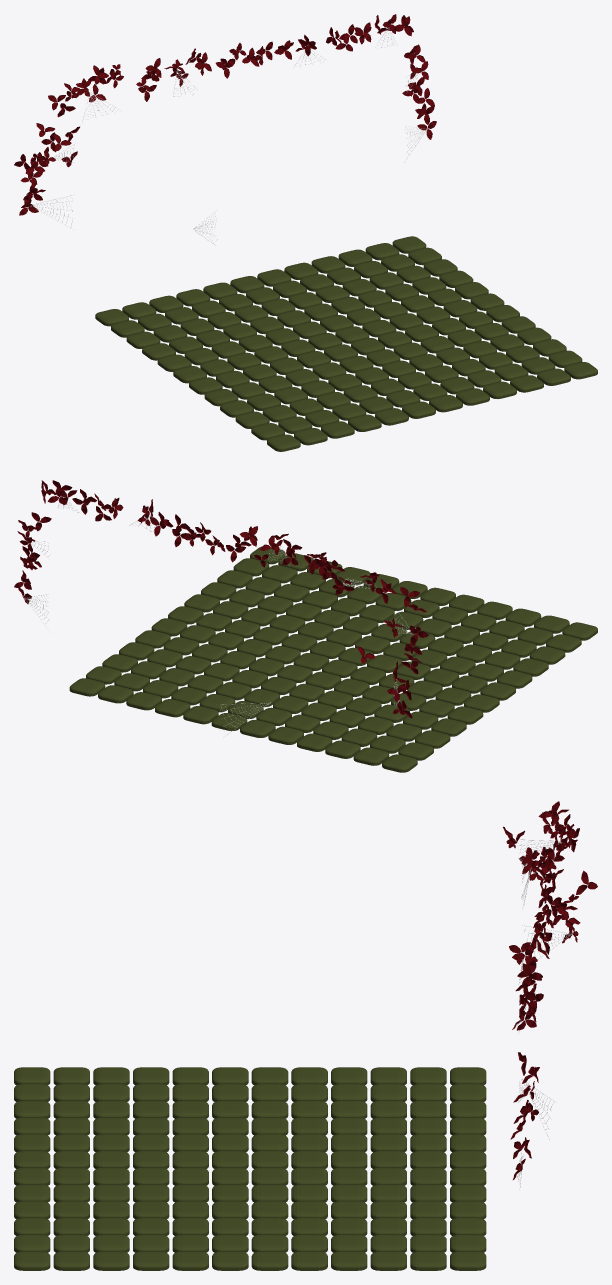
Rendered from fieldFall.glb.
The picture shows the model from 3 angles, top to bottom: view 1: azimuth 30°, elevation 25°; view 2: azimuth 150°, elevation 25°; view 3: azimuth 270°, elevation 25°; orthographic projection. The views are drawn at different scales.
Visible parts, largest first — view 1: playfield.001, spiderWeb.001; view 2: playfield.001, spiderWeb.001; view 3: playfield.001.
Part boxes in pixels (left/top/right/bottom): playfield.001: left=95, top=236, right=597, bottom=451; spiderWeb.001: left=34, top=31, right=426, bottom=243; playfield.001: left=69, top=546, right=597, bottom=772; spiderWeb.001: left=24, top=497, right=410, bottom=733; playfield.001: left=14, top=1067, right=486, bottom=1270.
Size of what is drawn, in the model's own units: 14.73 by 7.79 by 14.74.
